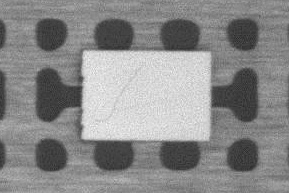DIE_CRACK: (95, 65, 141, 123)
